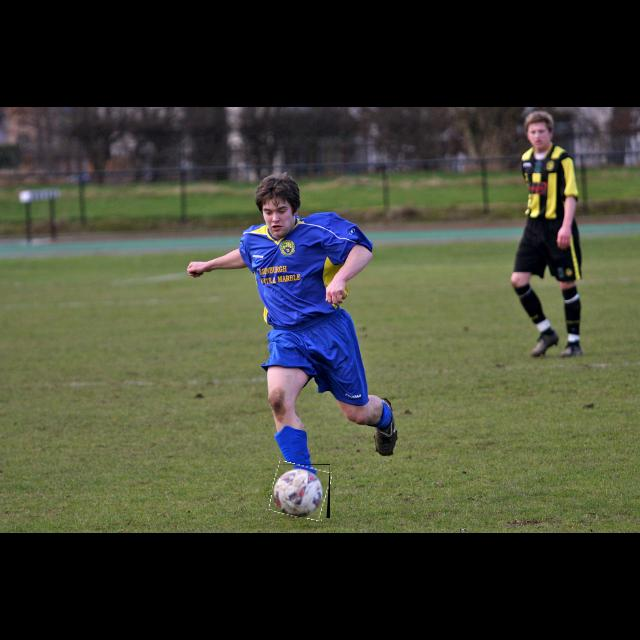Football: (272, 464, 330, 518)
